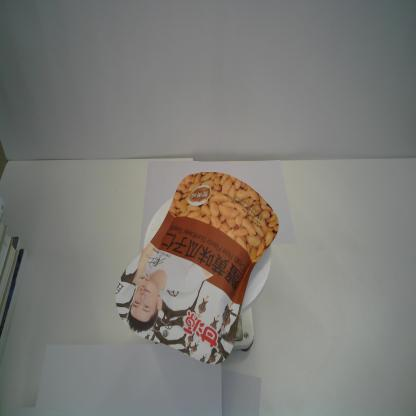Dried Fruit: (115, 171, 279, 366)
